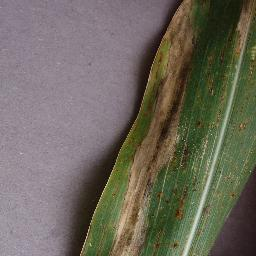Corn_Blight: (119, 100, 164, 253), (133, 2, 198, 100), (170, 102, 193, 251), (69, 179, 105, 253), (220, 1, 252, 78), (201, 86, 248, 133), (203, 203, 219, 223), (229, 185, 245, 202)
